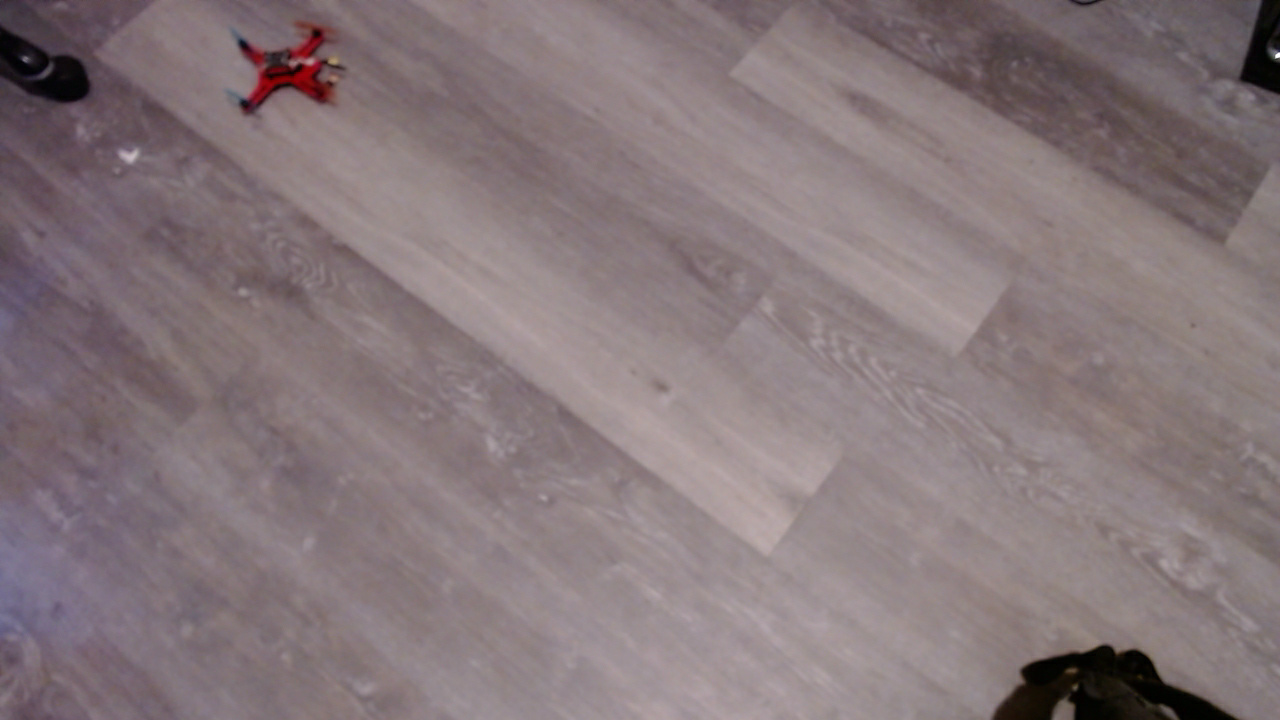crazyflie: (223, 15, 355, 137)
